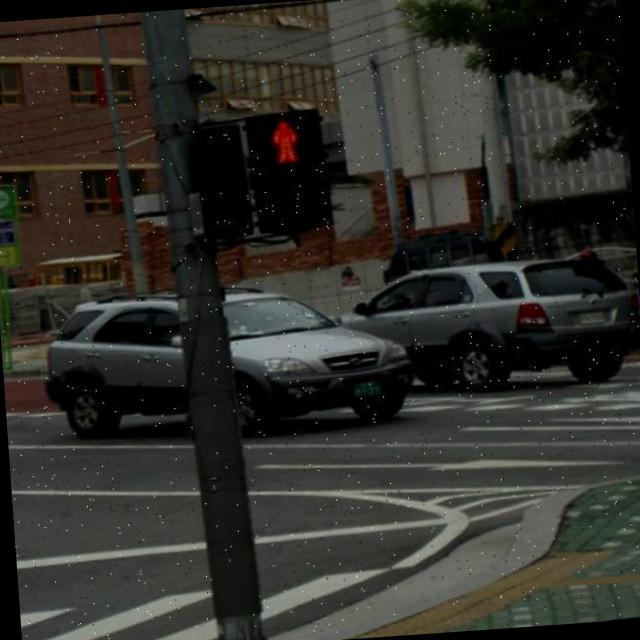red_light: (260, 113, 310, 166)
